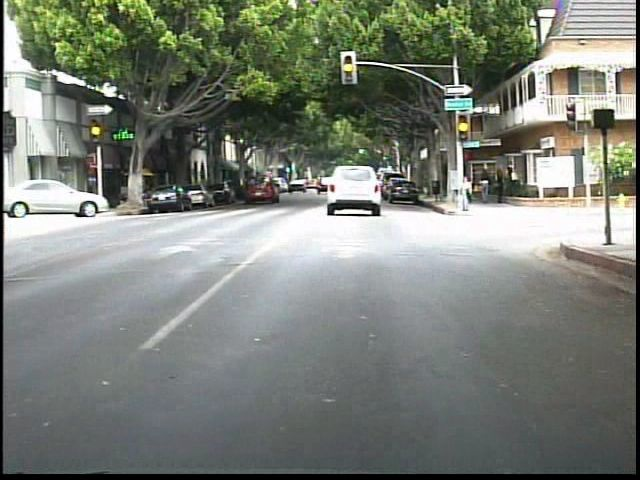person: (455, 172, 476, 213), (478, 167, 494, 203), (504, 160, 519, 196), (493, 167, 506, 206)
